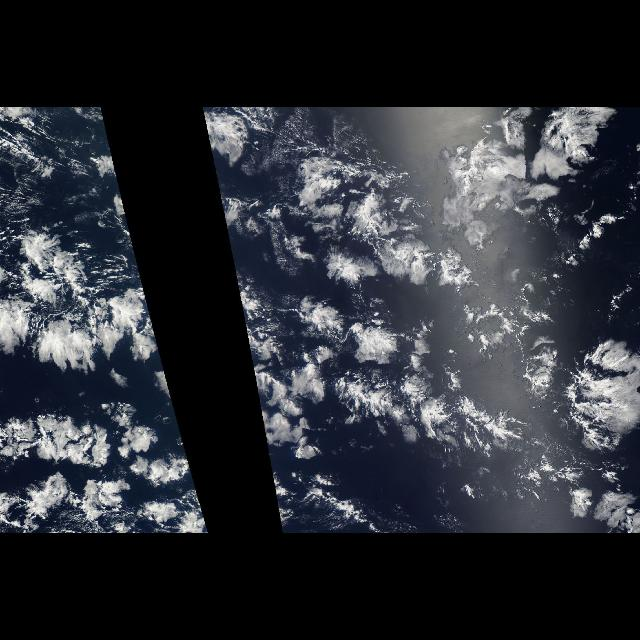Fish: (212, 169, 494, 467), (29, 169, 192, 467)
Flower: (202, 107, 638, 529), (0, 108, 208, 530)
Gravel: (2, 108, 130, 225)
